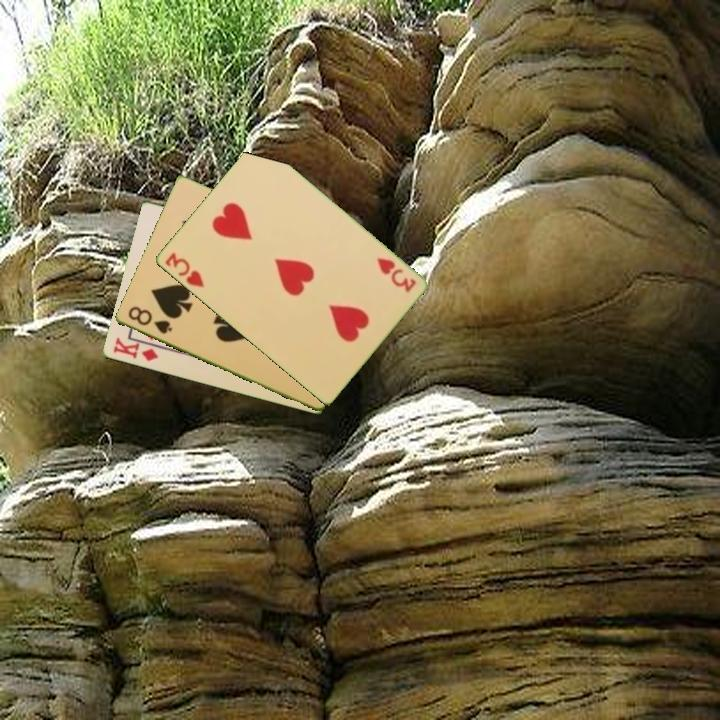3h: (161, 249, 207, 291), (373, 254, 419, 296)
8s: (124, 303, 175, 337)
Kd: (109, 334, 161, 365)
